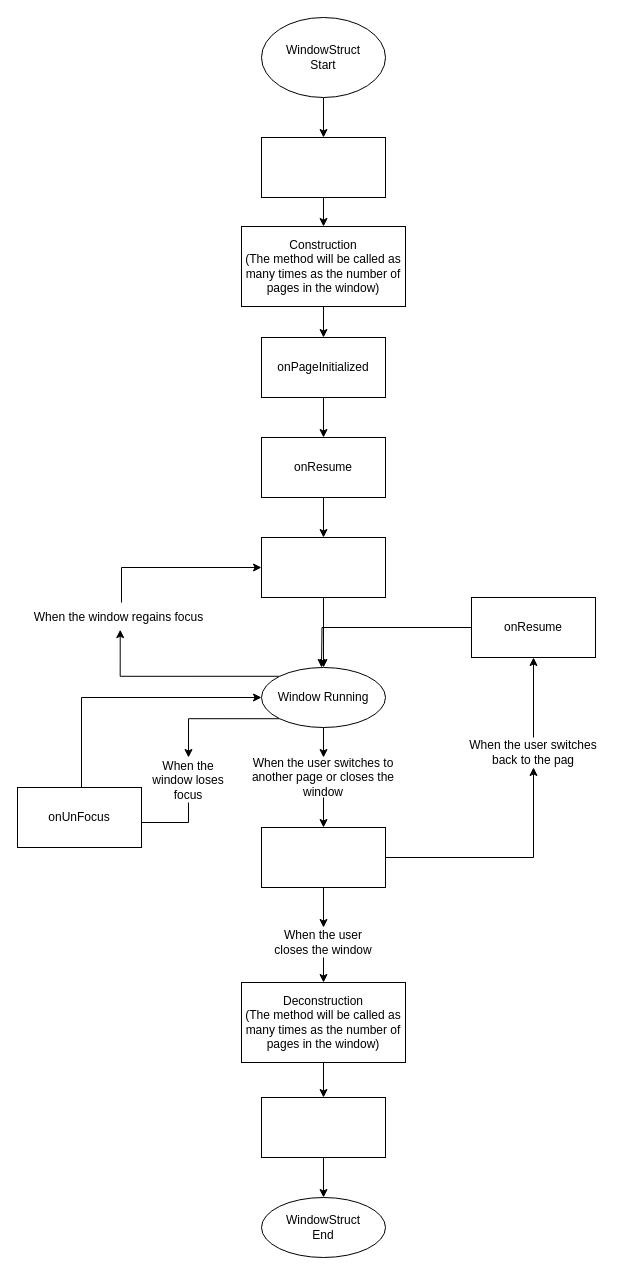
Some shapes in this 623 by 1275 pixel diagram are drawn without their labels. The shapes that lost their labels are listed below. From the top down, each one's centre as x and y in pixels, then its label:
At pixel 323 167: "onCreate".
At pixel 323 567: "onFocus".
At pixel 323 857: "onPause".
At pixel 323 1127: "onDestroy".
